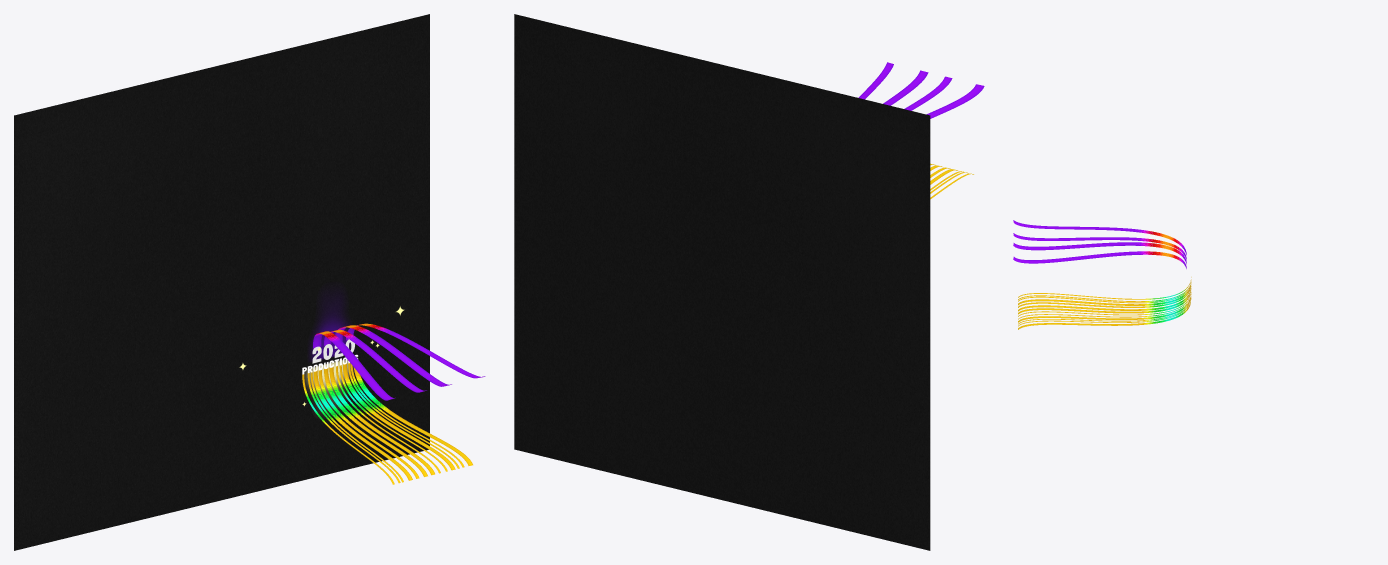
3 renders of one model, left to right at view 1: azimuth 30°, elevation 25°; view 2: azimuth 150°, elevation 25°; view 3: azimuth 270°, elevation 25°, orthographic. The views are drawn at different scales.
Parts seen in each view (by area): view 1: Plane.002, Plane.003, BézierCurve, BézierCurve.002, BézierCurve.001, BézierCurve.003, BézierCurve.016, BézierCurve.013, BézierCurve.010, BézierCurve.009, BézierCurve.007, Plane.008; view 2: Plane.002; view 3: BézierCurve.002, BézierCurve.003, BézierCurve, BézierCurve.001.
Part boxes in pixels (bbox=[...]): Plane.002: bbox=[14, 14, 429, 550]; Plane.003: bbox=[309, 296, 350, 361]; BézierCurve: bbox=[313, 331, 395, 400]; BézierCurve.002: bbox=[335, 325, 451, 386]; BézierCurve.001: bbox=[324, 329, 426, 392]; BézierCurve.003: bbox=[346, 323, 485, 378]; BézierCurve.016: bbox=[353, 367, 472, 465]; BézierCurve.013: bbox=[343, 363, 455, 470]; BézierCurve.010: bbox=[329, 366, 434, 475]; BézierCurve.009: bbox=[324, 368, 427, 476]; BézierCurve.007: bbox=[313, 370, 412, 480]; Plane.008: bbox=[305, 359, 353, 405]; Plane.002: bbox=[514, 14, 930, 550]; BézierCurve.002: bbox=[1013, 242, 1186, 264]; BézierCurve.003: bbox=[1013, 251, 1186, 268]; BézierCurve: bbox=[1013, 220, 1186, 255]; BézierCurve.001: bbox=[1013, 233, 1186, 259].
Size of the model in its own units: 4.06 by 4.06 by 3.63.
8 materials, 8 textured.
